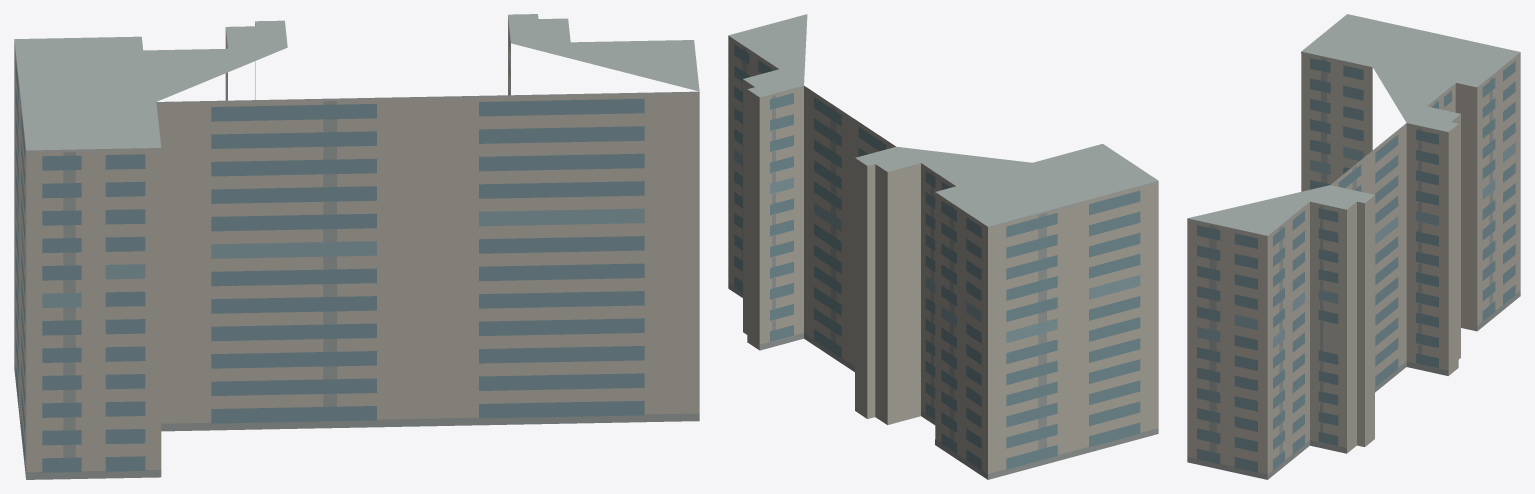
Rendered from residential-7af881f3-8325-4f3b-b271-12fe7e4fe19f.glb.
3 views of the same model, side by side, from view 1: azimuth 30°, elevation 25°; view 2: azimuth 150°, elevation 25°; view 3: azimuth 270°, elevation 25° (orthographic). The views are drawn at different scales.
Parts seen in each view (by area): view 1: residential-7af881f3-8325-4f3b-b271-12fe7e4fe19f.tmp; view 2: residential-7af881f3-8325-4f3b-b271-12fe7e4fe19f.tmp; view 3: residential-7af881f3-8325-4f3b-b271-12fe7e4fe19f.tmp.
Boxes of the visible parts, x1,y1,x2,y2 form: residential-7af881f3-8325-4f3b-b271-12fe7e4fe19f.tmp: (14, 14, 699, 479); residential-7af881f3-8325-4f3b-b271-12fe7e4fe19f.tmp: (728, 14, 1158, 479); residential-7af881f3-8325-4f3b-b271-12fe7e4fe19f.tmp: (1187, 14, 1520, 479).
Size of the model in its own units: 62.43 by 32 by 39.64.
